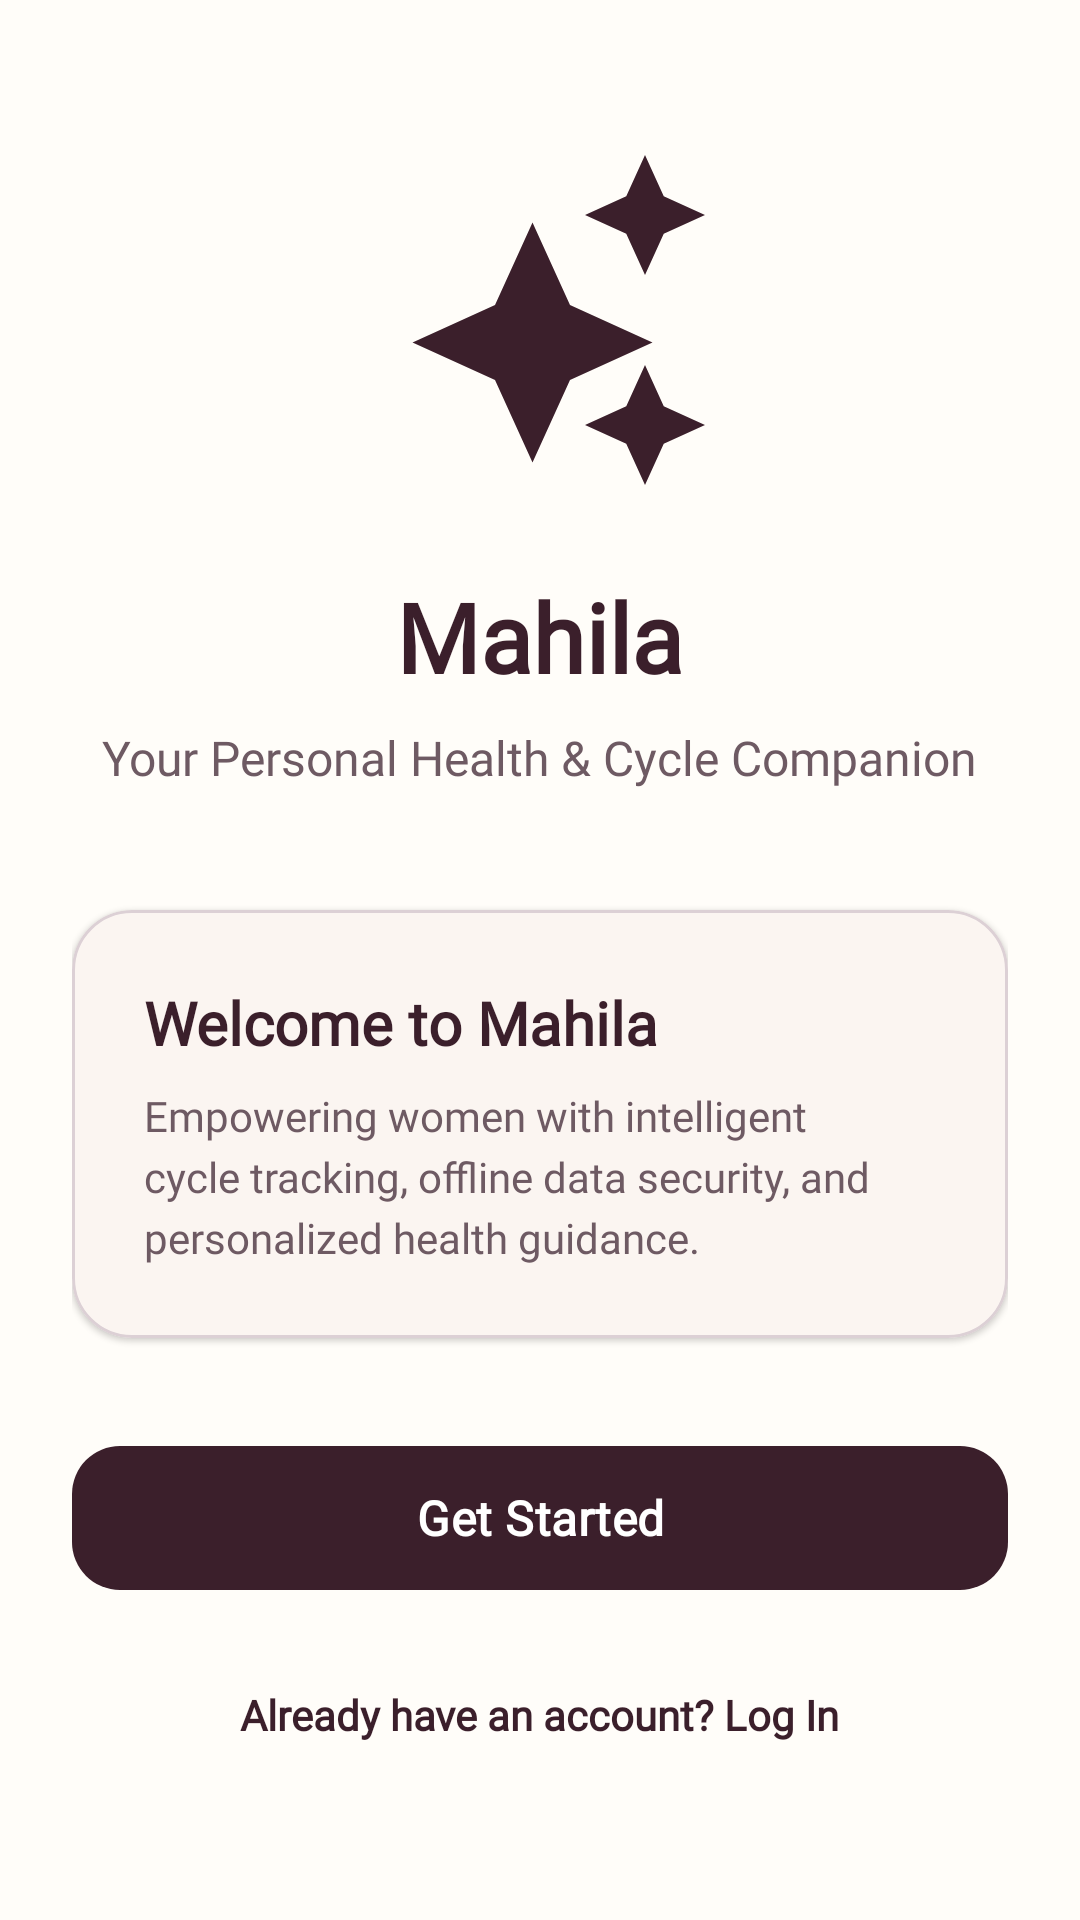

Where icons sit on this 1080*1920 app screen, as [x1, y1, x2, y2]:
ai sparkle: [413, 155, 705, 485]
